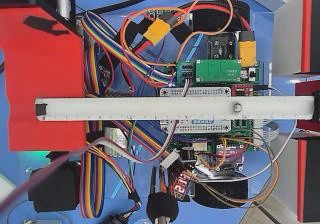ironball: (231, 102, 240, 112)
